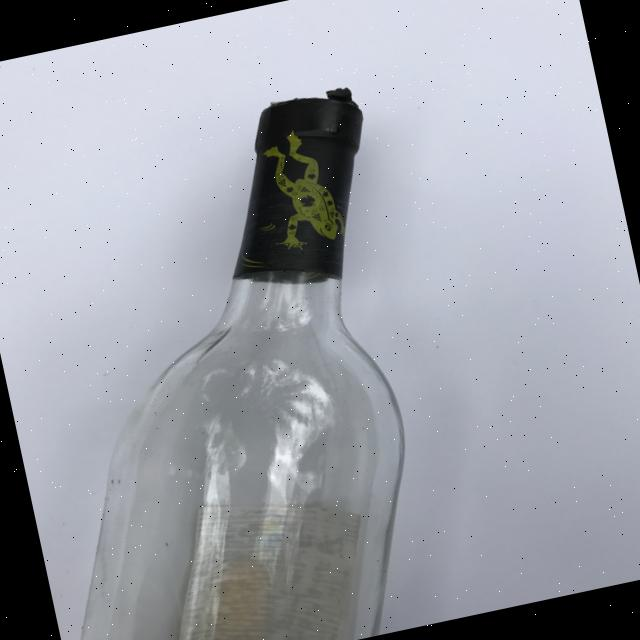glass: (0, 50, 498, 640)
